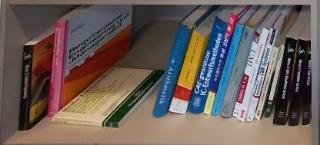book-spine: (187, 16, 229, 117), (151, 23, 191, 120), (203, 12, 237, 116), (220, 23, 256, 119), (210, 22, 245, 117), (168, 29, 206, 116), (237, 28, 270, 122), (246, 28, 277, 124), (232, 30, 261, 118), (273, 37, 297, 126), (46, 21, 66, 118), (287, 39, 309, 127), (254, 46, 279, 121), (264, 44, 286, 120), (17, 45, 34, 132), (301, 40, 314, 126), (50, 118, 118, 129)
